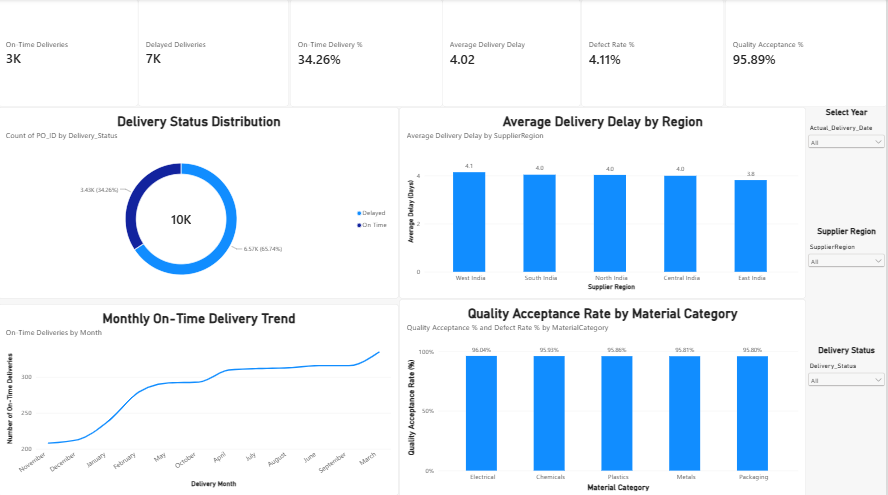

This screenshot's page, from the dashboard's own definition file:
{"tool":"powerbi","page":{"name":"Delivery & Quality Analysis","canvas":[1920,1080],"ordinal":2},"visuals":[{"type":"cardVisual","fields":{"Data":["procurement_analytics deliveries.Delayed Deliveries"]},"box":[302.2,0,326.9,232.6],"z":0},{"type":"cardVisual","fields":{"Data":["procurement_analytics deliveries.On-Time Deliveries"]},"box":[0,0,303.3,232.6],"z":1},{"type":"cardVisual","fields":{"Data":["procurement_analytics deliveries.On-Time Delivery %"]},"box":[629.8,0,330.2,233.7],"z":2},{"type":"cardVisual","fields":{"Data":["procurement_analytics quality_inspection.Quality Acceptance %"]},"box":[1569.5,0,350.5,233.7],"z":3},{"type":"cardVisual","fields":{"Data":["procurement_analytics deliveries.Average Delivery Delay"]},"box":[960,0,299.7,233.7],"z":4},{"type":"cardVisual","fields":{"Data":["procurement_analytics quality_inspection.Defect Rate %"]},"box":[1259.7,0,309.8,233.7],"z":5},{"type":"donutChart","title":"Delivery Status Distribution","fields":{"Category":["procurement_analytics deliveries.Delivery_Status"],"Y":["CountNonNull(procurement_analytics deliveries.PO_ID)"]},"box":[0,233.7,866,414],"z":6},{"type":"clusteredColumnChart","title":"Average Delivery Delay by Region","fields":{"Category":["procurement_analytics suppliers.SupplierRegion"],"Y":["procurement_analytics deliveries.Average Delivery Delay"]},"box":[866,233.7,878.7,414],"z":7},{"type":"lineChart","title":"Monthly On-Time Delivery Trend","fields":{"Category":["procurement_analytics deliveries.Actual_Delivery_Date.Variation.Date Hierarchy.Month"],"Y":["procurement_analytics deliveries.On-Time Deliveries"]},"box":[0,657.8,866,414],"z":8},{"type":"clusteredColumnChart","title":"Quality Acceptance Rate by Material Category","fields":{"Category":["procurement_analytics materials.MaterialCategory"],"Y":["procurement_analytics quality_inspection.Quality Acceptance %"]},"box":[866,647.6,878.7,431.7],"z":9},{"type":"slicer","title":"Select Year","fields":{"Values":["procurement_analytics deliveries.Actual_Delivery_Date"]},"box":[1744.8,233.7,175.2,256.5],"z":10},{"type":"slicer","title":"Supplier Region","fields":{"Values":["procurement_analytics suppliers.SupplierRegion"]},"box":[1744.8,490.2,175.2,256.5],"z":11},{"type":"slicer","title":"Delivery Status","fields":{"Values":["procurement_analytics deliveries.Delivery_Status"]},"box":[1744.8,746.7,175.2,256.5],"z":12}]}

Visuals, with their boxes in screenshot pixels (x1, y1, x2, y2), scaled from the page's 1920x1080 canvas onto the 888x495 screenshot:
cardVisual - procurement_analytics deliveries.Delayed Deliveries: x1=140 y1=0 x2=291 y2=107
cardVisual - procurement_analytics deliveries.On-Time Deliveries: x1=0 y1=0 x2=140 y2=107
cardVisual - procurement_analytics deliveries.On-Time Delivery %: x1=291 y1=0 x2=444 y2=107
cardVisual - procurement_analytics quality_inspection.Quality Acceptance %: x1=726 y1=0 x2=887 y2=107
cardVisual - procurement_analytics deliveries.Average Delivery Delay: x1=444 y1=0 x2=583 y2=107
cardVisual - procurement_analytics quality_inspection.Defect Rate %: x1=583 y1=0 x2=726 y2=107
"Delivery Status Distribution" donutChart: x1=0 y1=107 x2=401 y2=297
"Average Delivery Delay by Region" clusteredColumnChart: x1=401 y1=107 x2=807 y2=297
"Monthly On-Time Delivery Trend" lineChart: x1=0 y1=301 x2=401 y2=491
"Quality Acceptance Rate by Material Category" clusteredColumnChart: x1=401 y1=297 x2=807 y2=494
"Select Year" slicer: x1=807 y1=107 x2=887 y2=225
"Supplier Region" slicer: x1=807 y1=225 x2=887 y2=342
"Delivery Status" slicer: x1=807 y1=342 x2=887 y2=460
